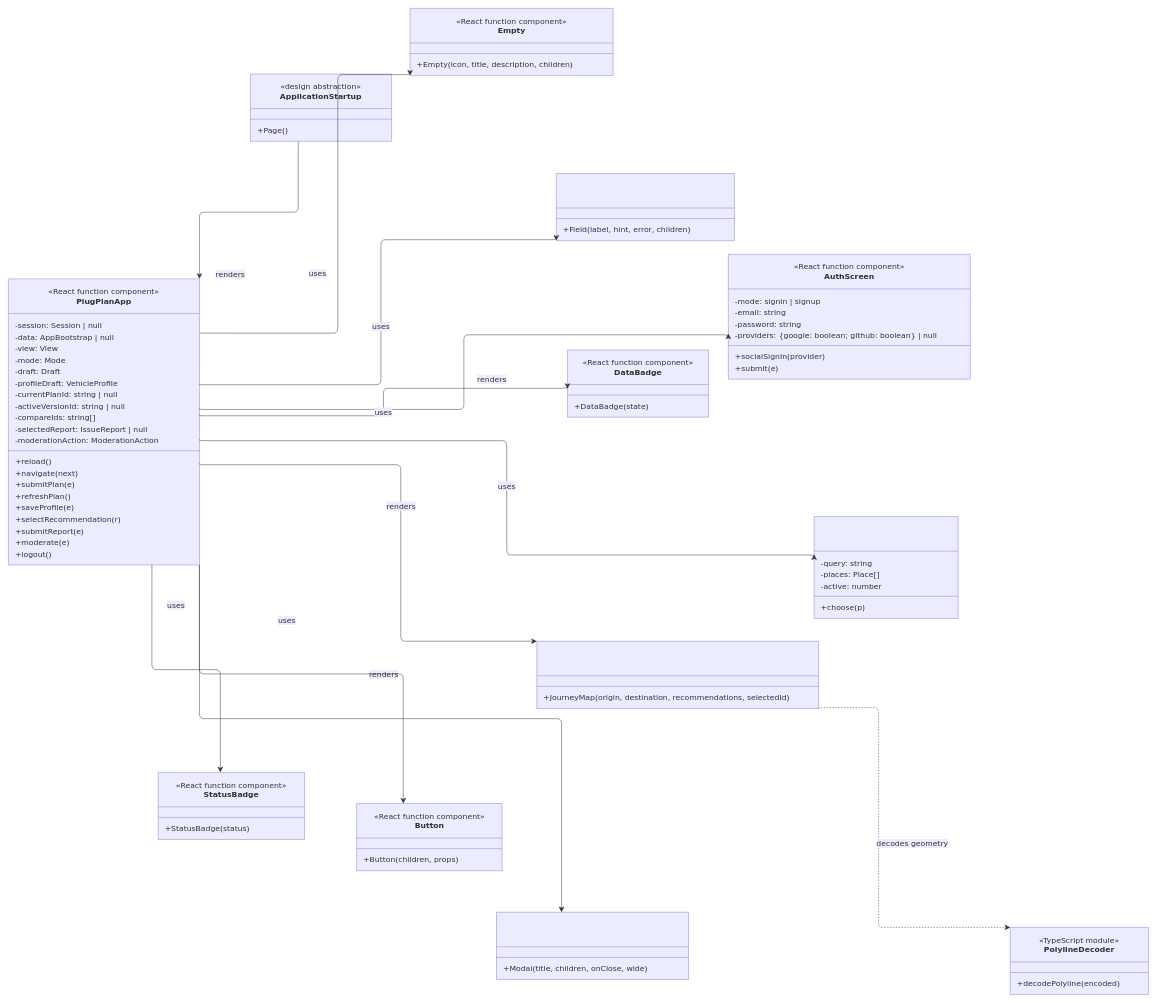
This 1157x1003 diagram has some shape labels left out. The shapes that lost their labels are listed below. From the top down, each one's box as (x1, y1, x2, y2) in pixels, then its label:
(556, 173, 734, 241): «React function component» Field
(814, 516, 958, 618): «React function component» PlacePicker
(536, 641, 819, 708): «React function component» JourneyMap
(496, 912, 689, 979): «React function component» Modal
